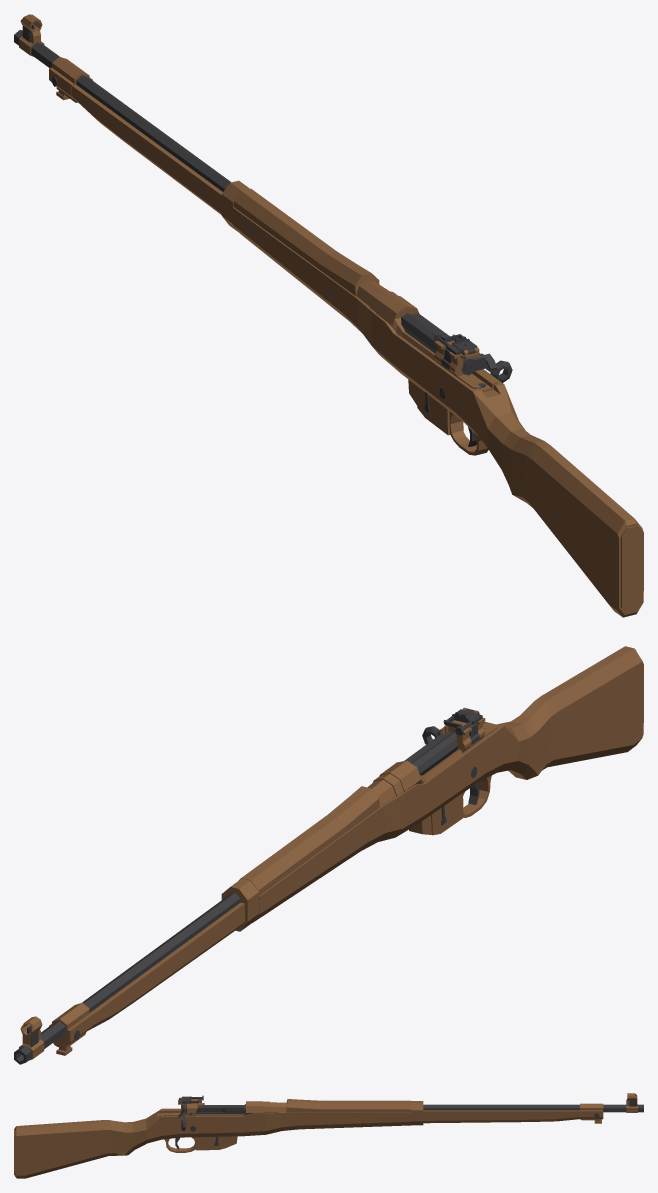
The picture shows the model from 3 angles, top to bottom: view 1: azimuth 30°, elevation 25°; view 2: azimuth 150°, elevation 25°; view 3: azimuth 270°, elevation 25°; orthographic projection. The views are drawn at different scales.
Parts seen in each view (by area): view 1: ross-mk3; view 2: ross-mk3; view 3: ross-mk3.
Boxes of the visible parts, x1,y1,x2,y2 form: ross-mk3: (14,14,643,617); ross-mk3: (14,646,643,1064); ross-mk3: (14,1093,643,1178).
Bounding box in the file's own units: 0.0734 × 0.1877 × 1.29.
